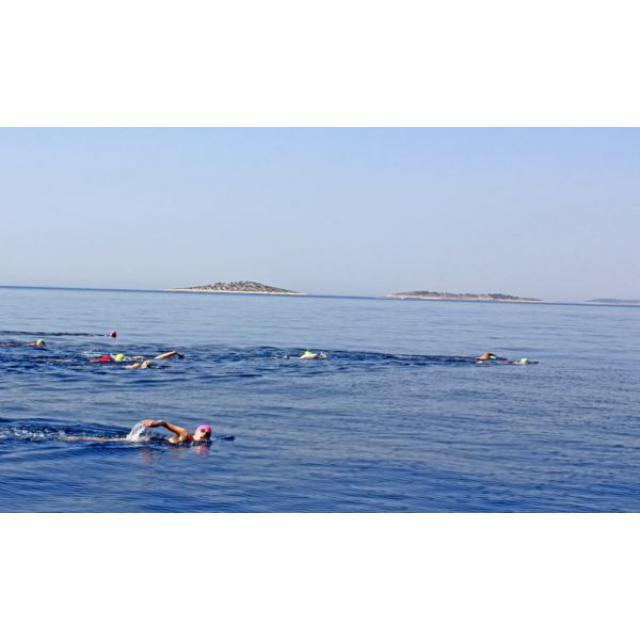human: (137, 416, 214, 449)
